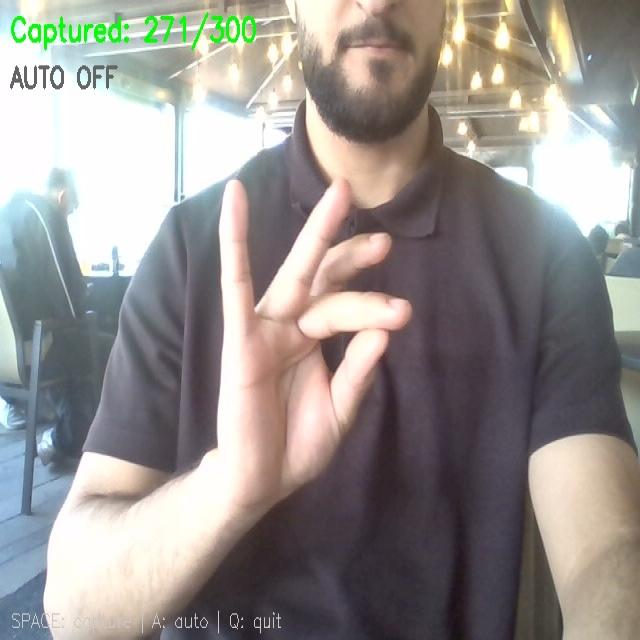Hand: (217, 182, 410, 509)
